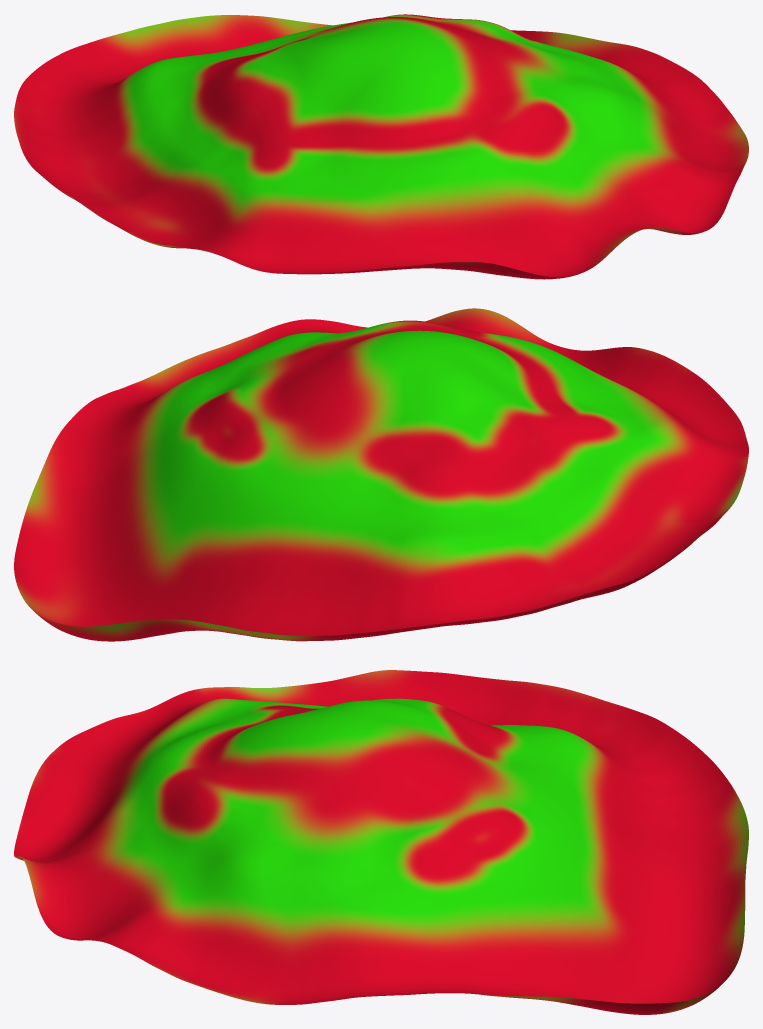
Rendered from Island IS Sigma.fbx.
3 views of the same model, one above another, from view 1: azimuth 30°, elevation 25°; view 2: azimuth 150°, elevation 25°; view 3: azimuth 270°, elevation 25° (orthographic).
Visible parts, largest first — view 1: Plane; view 2: Plane; view 3: Plane.
Boxes of the visible parts, x1,y1,x2,y2 form: Plane: (14,14,748,279); Plane: (14,308,748,641); Plane: (14,670,748,1014).
Size of the model in its own units: 1852 by 574 by 1893.
